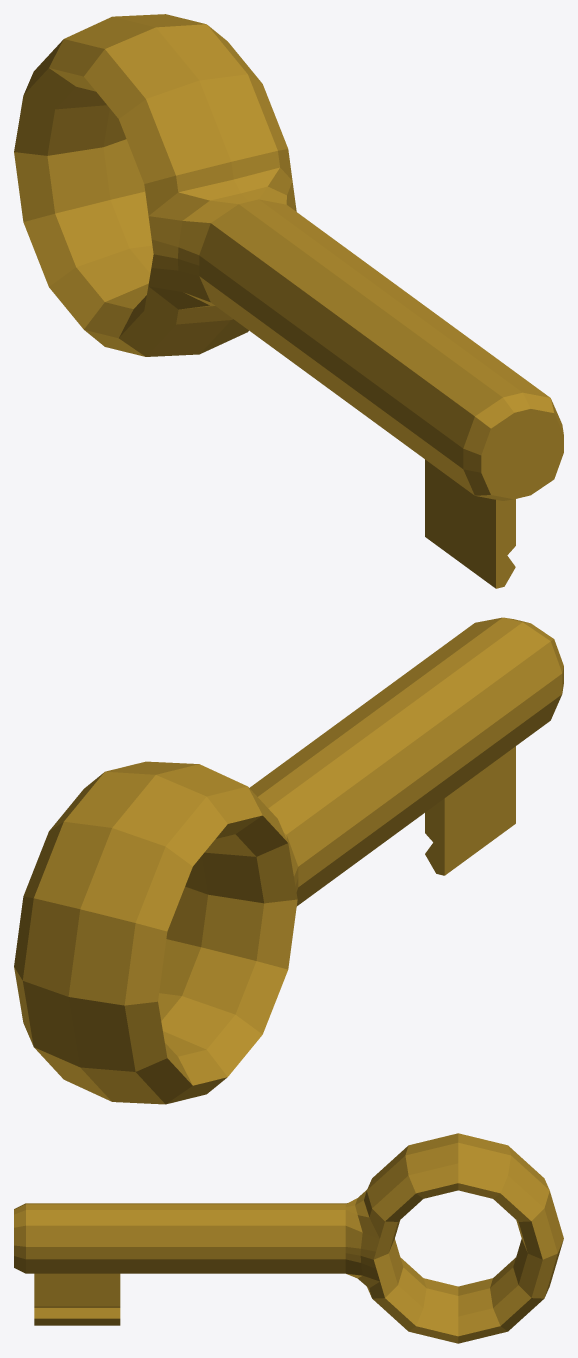
File: Key.fbx
3 views of the same model, one above another, from view 1: azimuth 30°, elevation 25°; view 2: azimuth 150°, elevation 25°; view 3: azimuth 270°, elevation 25° (orthographic). The views are drawn at different scales.
Visible parts, largest first — view 1: Cube; view 2: Cube; view 3: Cube.
Part boxes in pixels (x1=…): Cube: x1=14, y1=14, x2=563, y2=588; Cube: x1=14, y1=617, x2=563, y2=1104; Cube: x1=14, y1=1133, x2=563, y2=1343.
Size of the model in its own units: 0.2941 by 0.6172 by 1.61.
